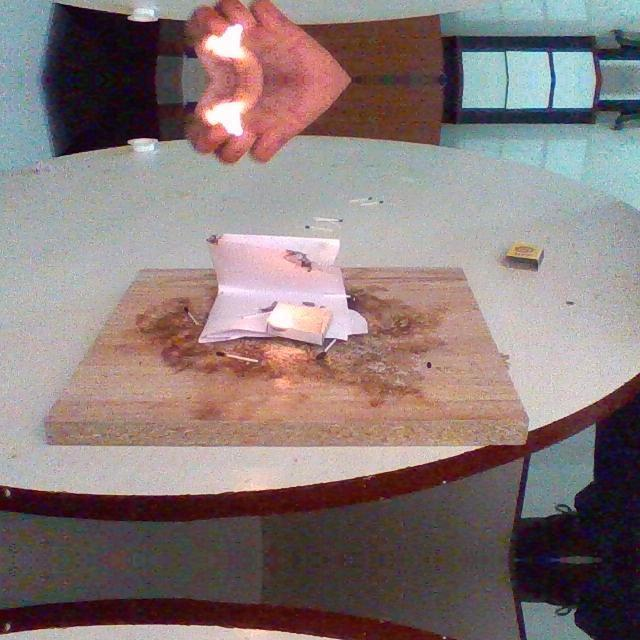smoke: (209, 100, 251, 140), (209, 20, 251, 60)
